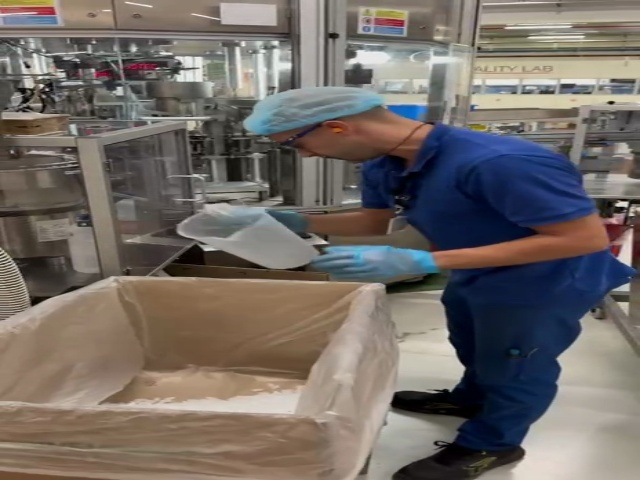Earplug: (321, 121, 349, 138)
Hairnet: (247, 88, 377, 128)
No_Helmet: (246, 85, 382, 132)
No_Vest: (365, 130, 603, 306)
Person: (227, 80, 637, 480)
Safety_Goggles: (264, 122, 323, 151)
